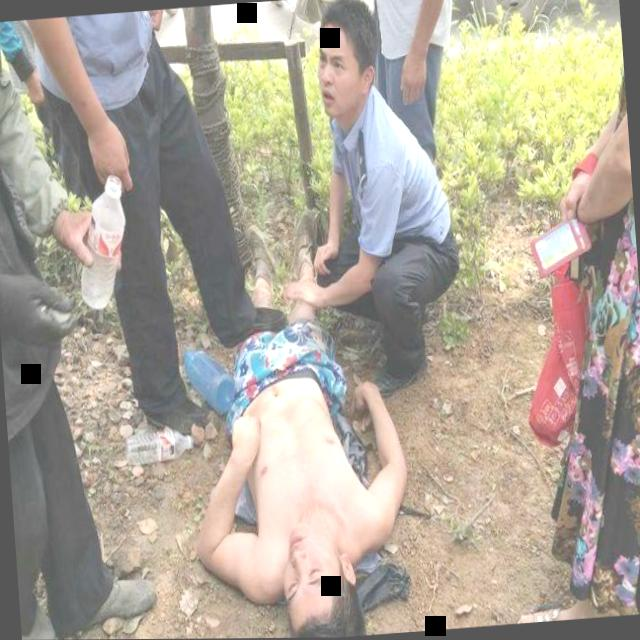Fall-Detected: (165, 253, 432, 639)
